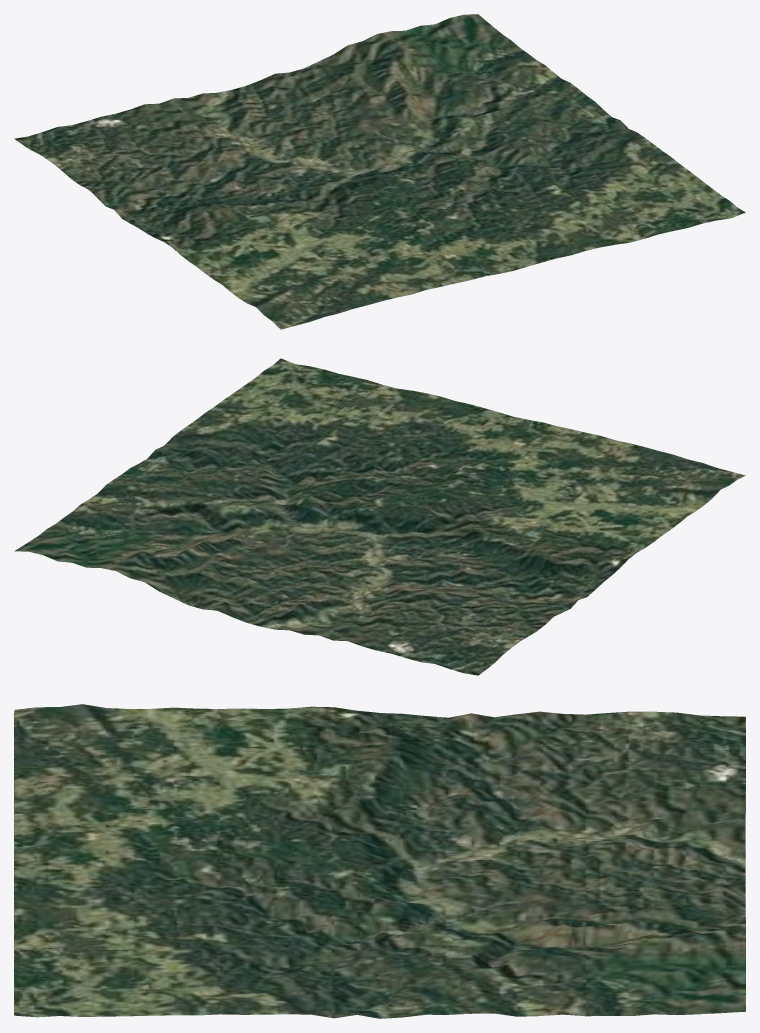
3 renders of one model, top to bottom at view 1: azimuth 30°, elevation 25°; view 2: azimuth 150°, elevation 25°; view 3: azimuth 270°, elevation 25°, orthographic. The views are drawn at different scales.
Size of the model in its own units: 15644 by 670 by 15567.
Materials: 1 (1 with a texture image).
